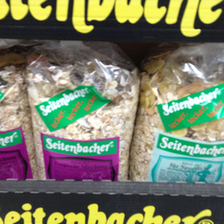cereal: (29, 54, 139, 184), (132, 57, 224, 185)
